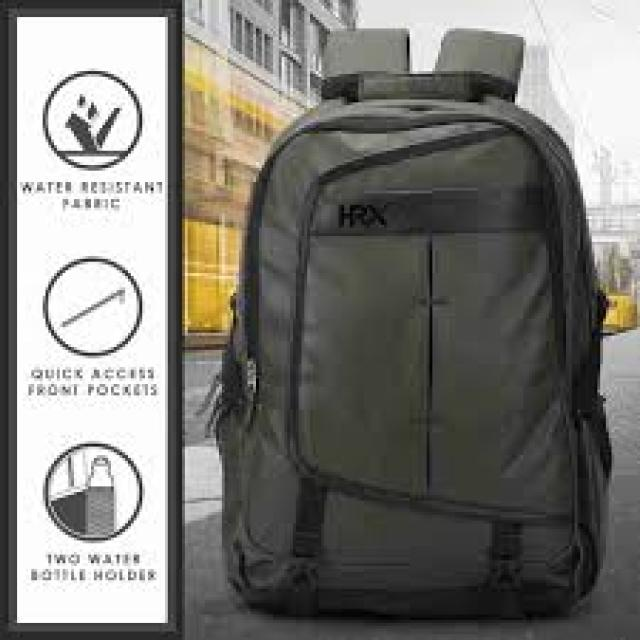backpack: (204, 26, 612, 620)
